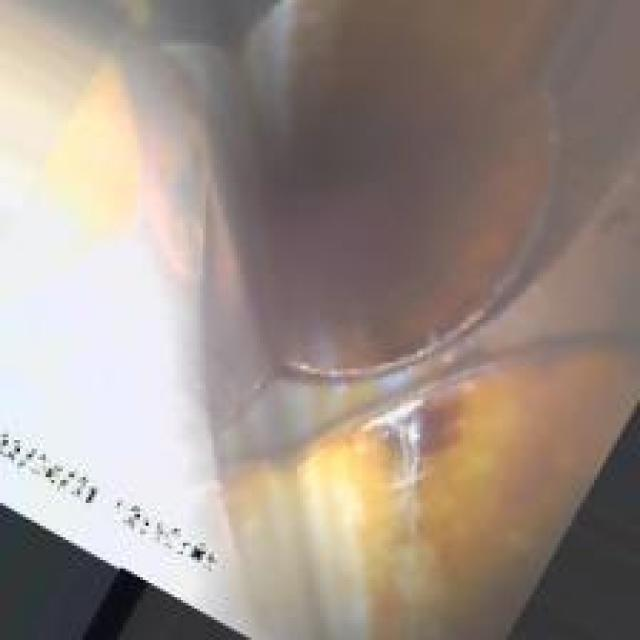joint: (191, 29, 543, 597)
